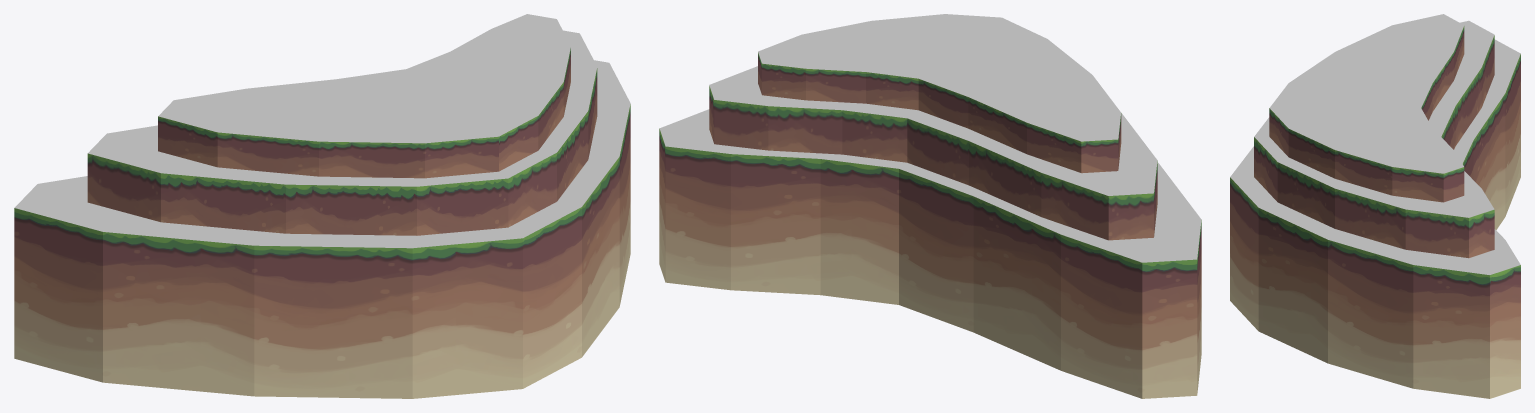
The model's file is LandMass2.fbx.
The picture shows the model from 3 angles, left to right: view 1: azimuth 30°, elevation 25°; view 2: azimuth 150°, elevation 25°; view 3: azimuth 270°, elevation 25°; orthographic projection. The views are drawn at different scales.
Parts seen in each view (by area): view 1: Circle.001; view 2: Circle.001; view 3: Circle.001.
Boxes of the visible parts, left/top/right/bottom form: Circle.001: left=14, top=14, right=630, bottom=398; Circle.001: left=659, top=14, right=1201, bottom=398; Circle.001: left=1230, top=14, right=1520, bottom=398.
Size of the model in its own units: 364 by 137 by 187.
